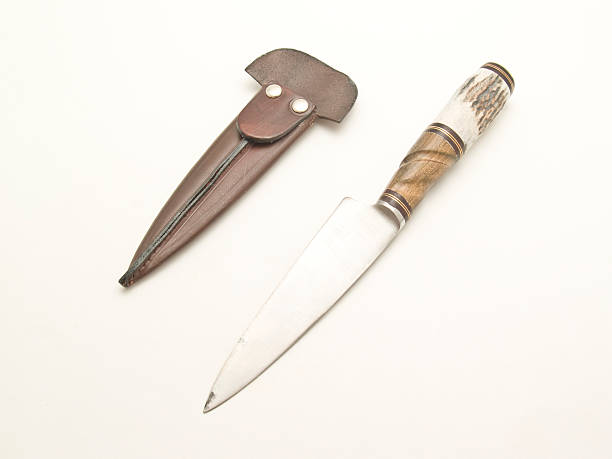knife: (200, 59, 516, 417)
